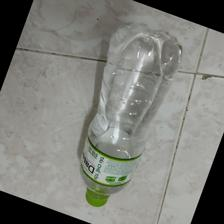Dasani: (78, 21, 185, 210)
